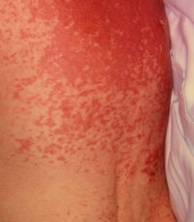SJS-TEN: (2, 0, 177, 186)
